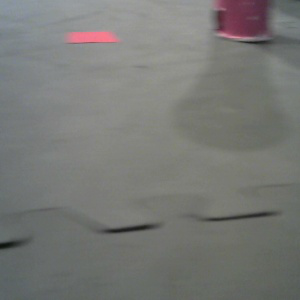right: (211, 1, 279, 45)
